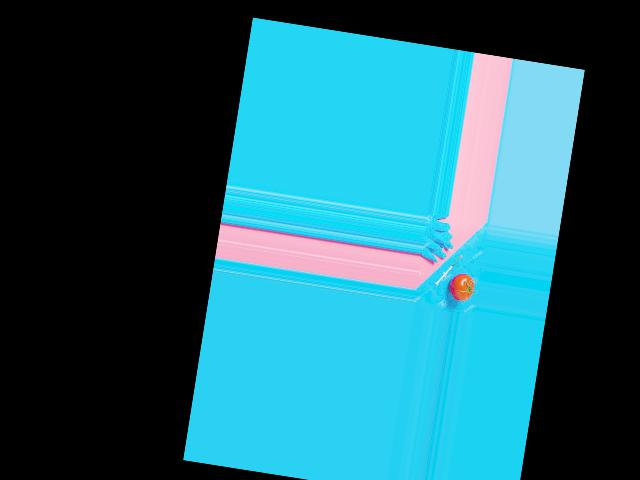tomato: (447, 271, 475, 301)
